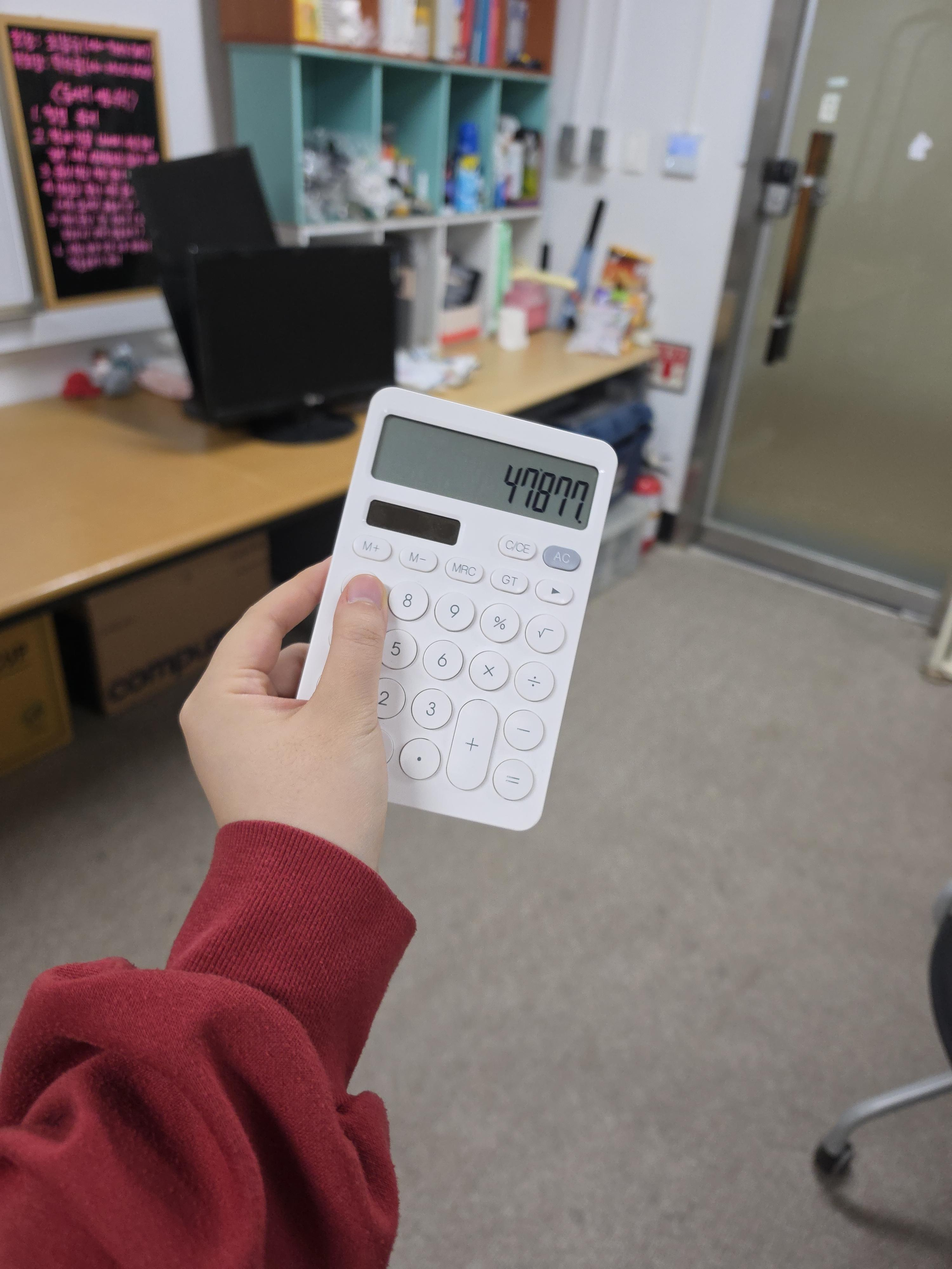calculator: (295, 386, 619, 831)
